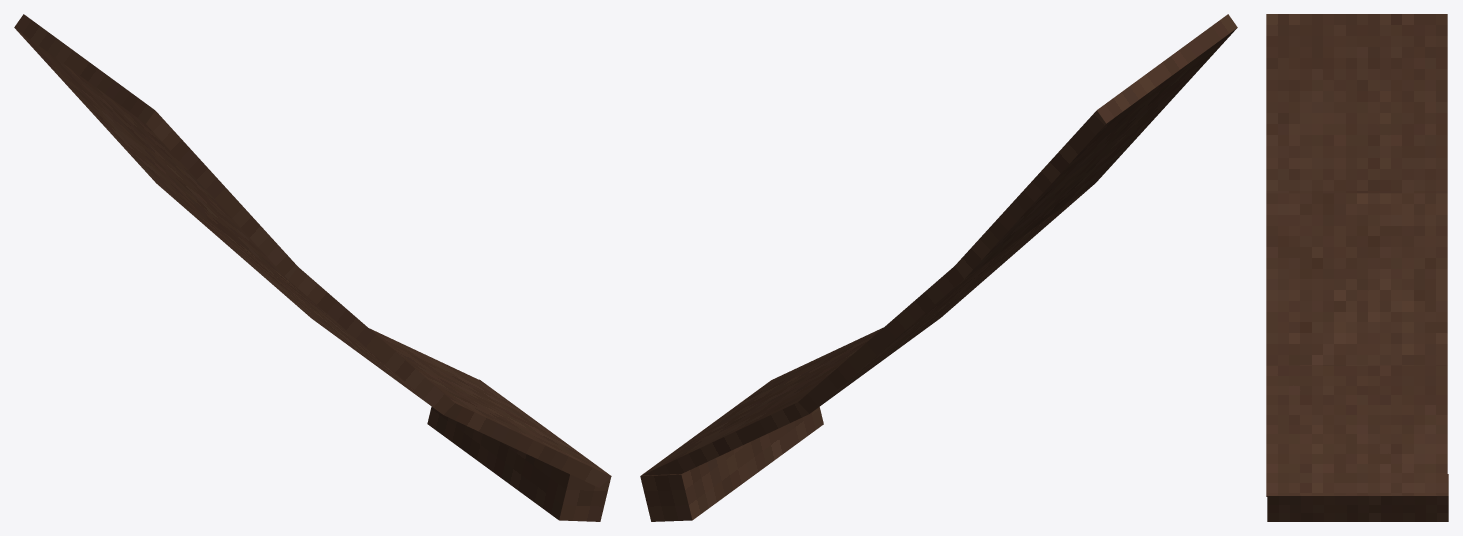
File: red_cloth_45_small.obj
The picture shows the model from 3 angles, left to right: view 1: azimuth 30°, elevation 25°; view 2: azimuth 150°, elevation 25°; view 3: azimuth 270°, elevation 25°; orthographic projection. The views are drawn at different scales.
Parts seen in each view (by area): view 1: plane, cube; view 2: plane, cube; view 3: plane, cube.
Boxes of the visible parts, left/top/right/bottom form: plane: left=14, top=14, right=611, bottom=487; cube: left=427, top=379, right=610, bottom=521; plane: left=642, top=14, right=1237, bottom=475; cube: left=640, top=380, right=823, bottom=521; plane: left=1266, top=14, right=1447, bottom=496; cube: left=1267, top=474, right=1448, bottom=521.
Size of the model in its own units: 2.04 by 2.18 by 1.01.
